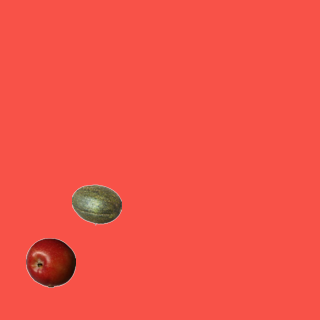Apple Braeburn: (25, 237, 75, 287)
Melon Piel de Sapo: (71, 179, 121, 229)
